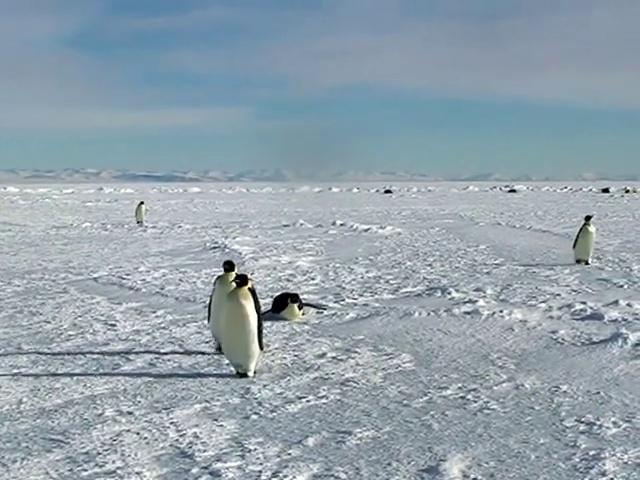animal: (262, 294, 326, 322)
